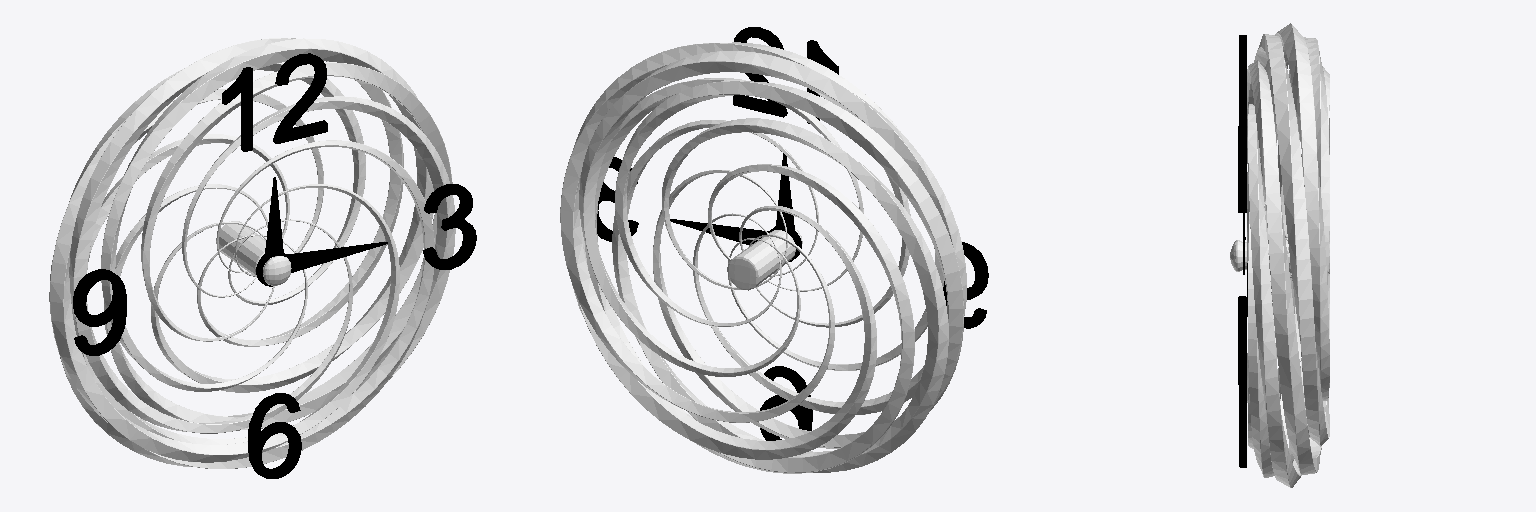
File: clock02_POSER.obj
3 renders of one model, left to right at view 1: azimuth 30°, elevation 25°; view 2: azimuth 150°, elevation 25°; view 3: azimuth 270°, elevation 25°, orthographic.
Parts seen in each view (by area): view 1: clock02, clock02_digits, clock02_dial, clock02_bighand, clock02_littlehand; view 2: clock02, clock02_digits, clock02_dial, clock02_bighand, clock02_littlehand; view 3: clock02, clock02_digits.
Part boxes in pixels (bbox=[...]): clock02: bbox=[49, 38, 455, 468]; clock02_digits: bbox=[73, 53, 476, 478]; clock02_dial: bbox=[216, 221, 291, 285]; clock02_bighand: bbox=[256, 242, 387, 283]; clock02_littlehand: bbox=[257, 177, 290, 286]; clock02: bbox=[560, 42, 966, 473]; clock02_digits: bbox=[597, 27, 988, 440]; clock02_dial: bbox=[727, 229, 802, 290]; clock02_bighand: bbox=[670, 219, 798, 261]; clock02_littlehand: bbox=[774, 153, 801, 258]; clock02: bbox=[1247, 23, 1329, 487]; clock02_digits: bbox=[1238, 35, 1246, 467].
Size of the model in its own units: 0.1594 by 0.1583 by 0.0346.